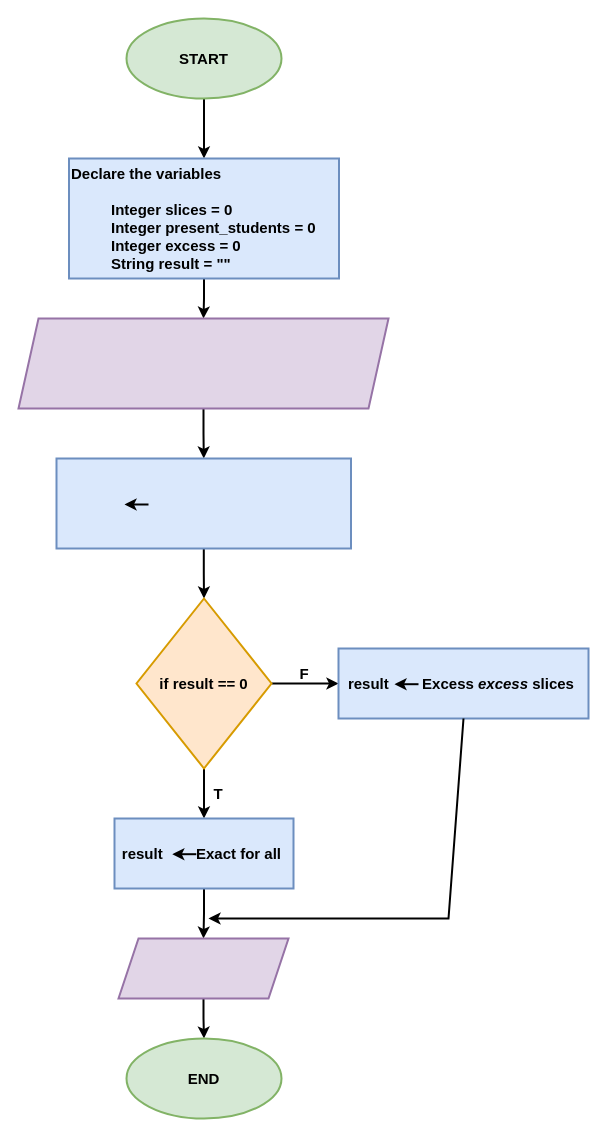
The diagram is 606 pixels wide and 1136 high, and some of its shapes have lost their labels. Each missing label, with the centre of its shape:
"Display result" belongs at point 203,968.
"excess slices - present_students" belongs at point 203,503.
"Input slices, Input present_students" belongs at point 203,363.
